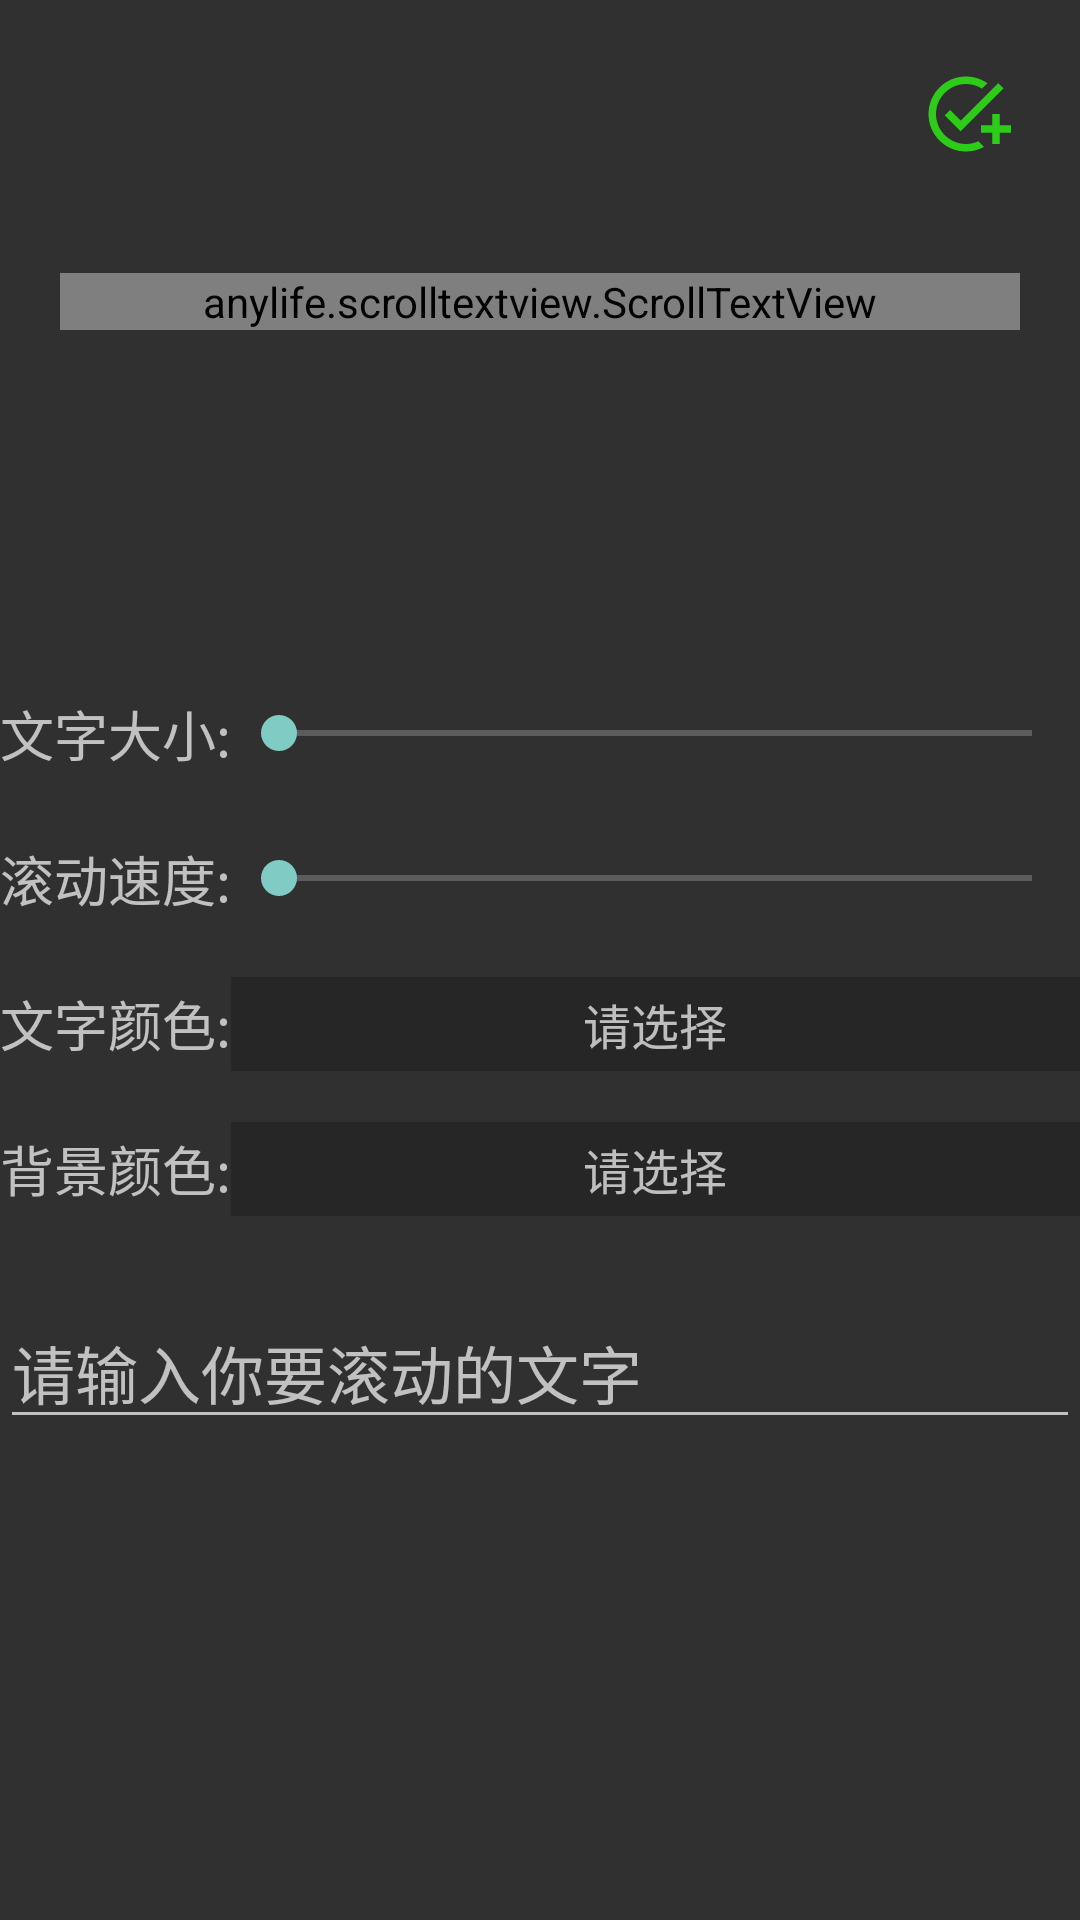

Icon click points for this 1080×1920 phone screenshot, format [x,y]:
add task: [969,114]
